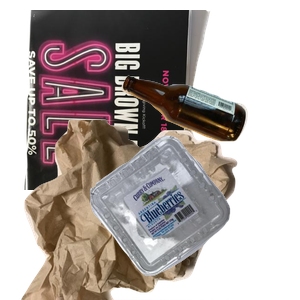glass: (119, 73, 300, 207)
paper: (22, 10, 225, 190)
plastic: (88, 133, 300, 300)
trash: (19, 120, 249, 300)
